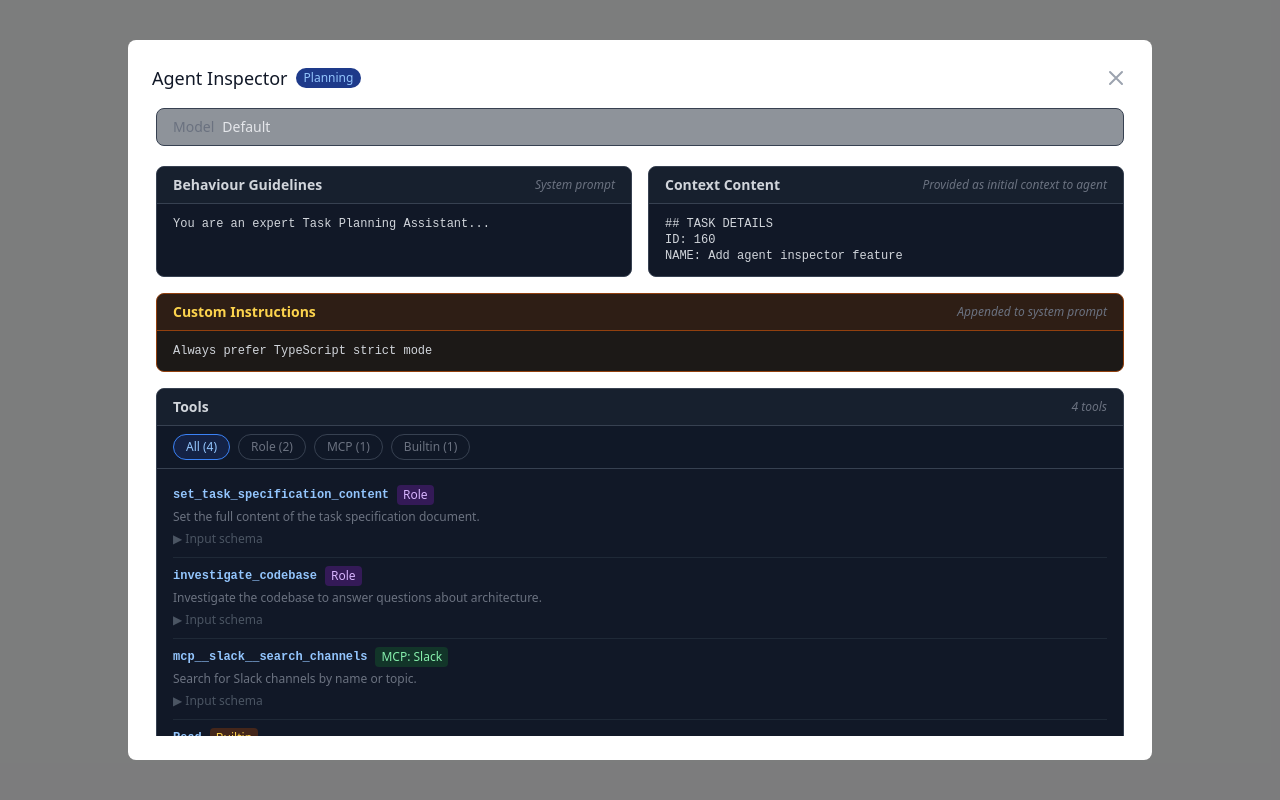
Test case: AgentInspectorModal › tool filter buttons show correct counts and filter the list
expect the button "All (4)" is shown: met, box [173,434,230,460]
expect the button "MCP (1)" is shown: met, box [314,434,383,460]
Filter by Role — role tools visible, builtin hidden
Click the button "Role (2)".
click(272, 447)  # box [238,434,306,460]
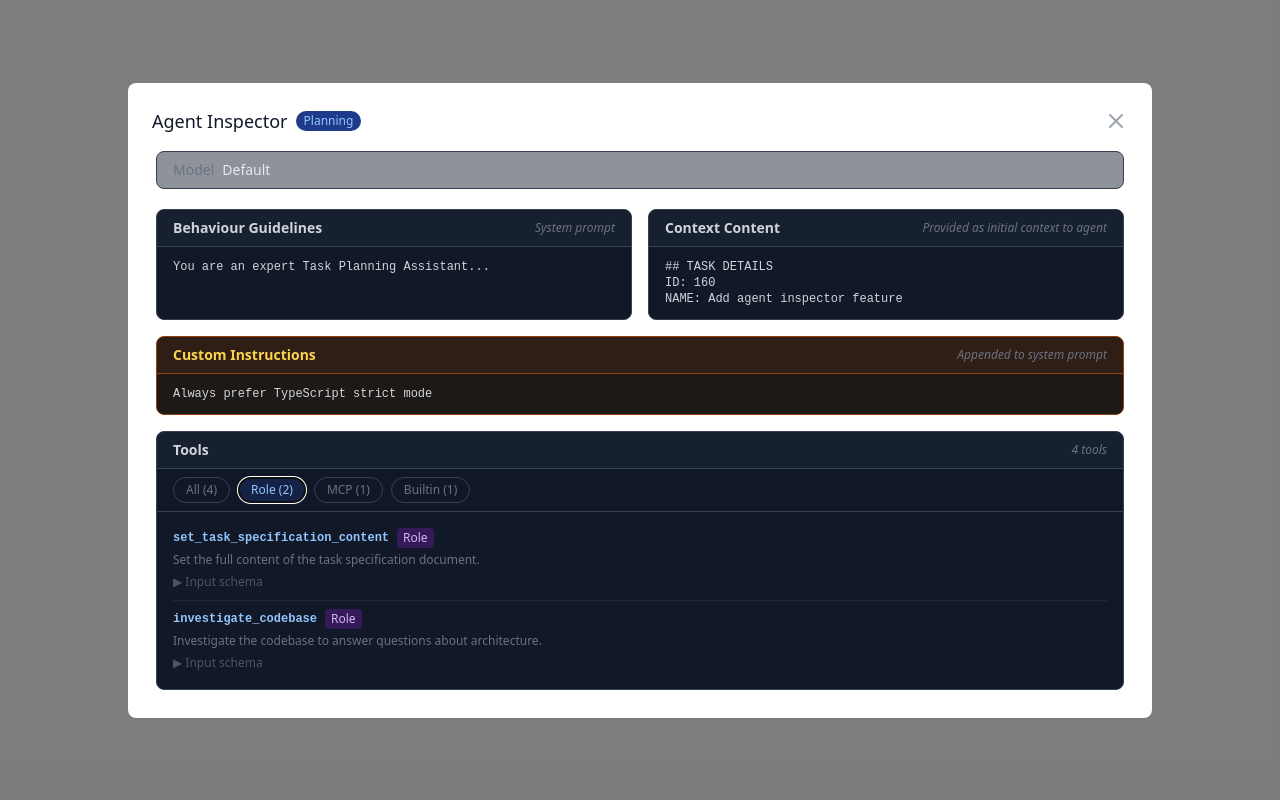
expect the text "set_task_specification_content" is shown: met, box [173,530,389,546]
expect the text "Read" is gone: met
Filter by Builtin — builtin visible, role tools hidden
Click the button "Builtin (1)".
click(431, 490)  # box [391,476,470,502]
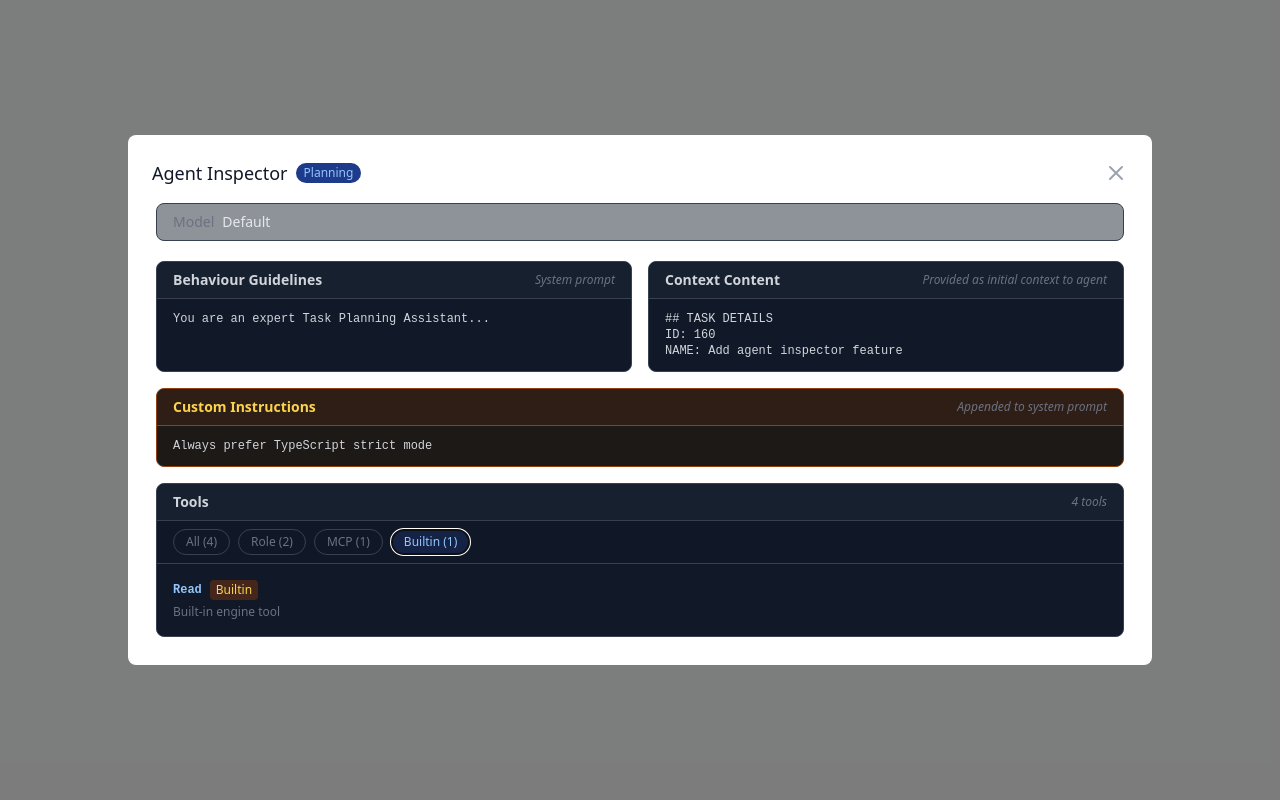
expect the text "Read" is shown: met, box [173,582,202,598]
expect the text "set_task_specification_content" is gone: met
Filter by All — all tools visible again
Click the button "All (4)".
click(202, 542)  # box [173,529,230,555]
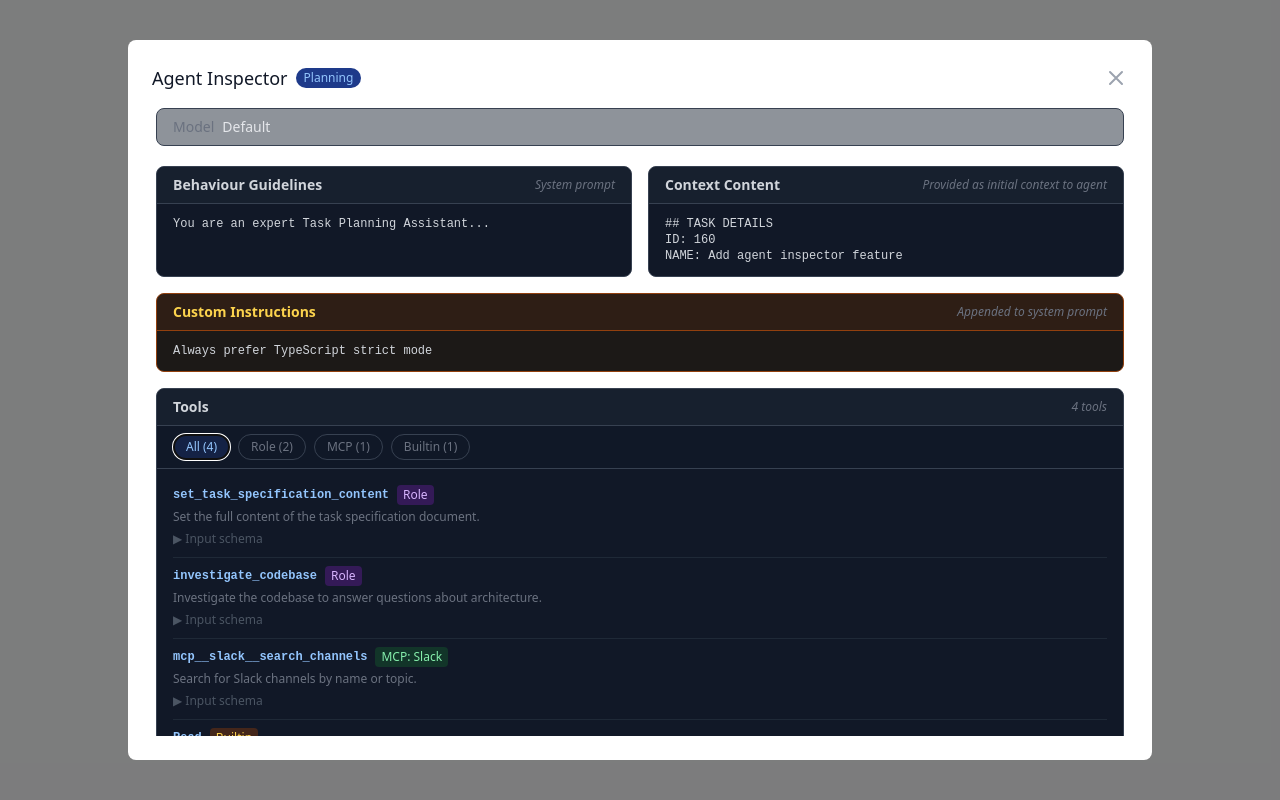
expect the text "set_task_specification_content" is shown: met, box [173,487,389,503]
